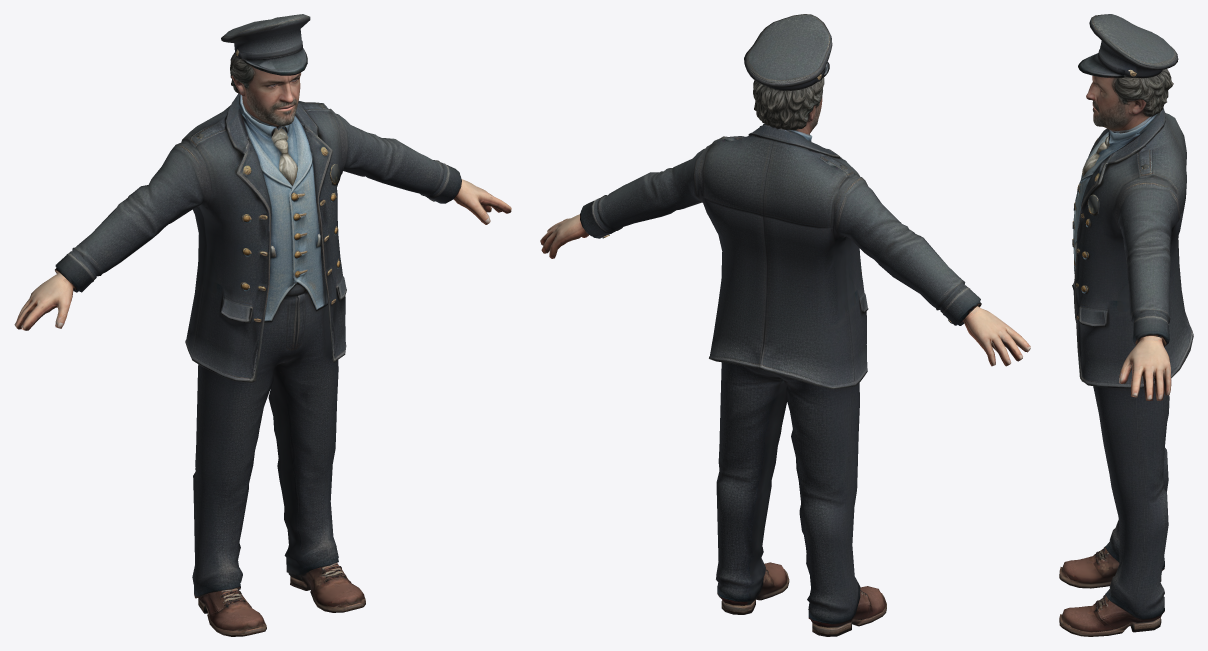
File: 3dai-text.fbx
3 renders of one model, left to right at view 1: azimuth 30°, elevation 25°; view 2: azimuth 150°, elevation 25°; view 3: azimuth 270°, elevation 25°, orthographic.
Visible parts, largest first — view 1: guide; view 2: guide; view 3: guide.
Boxes of the visible parts, box(x1,y1,x2,y2) form: guide: box(14, 14, 511, 636); guide: box(540, 14, 1030, 636); guide: box(1059, 14, 1193, 636).
Bounding box in the file's own units: 0.8632 × 1 × 0.2091.
1 material, 1 textured.
